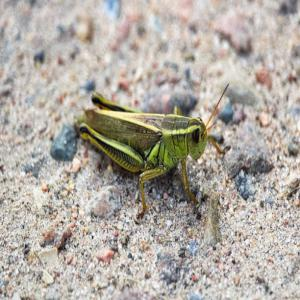locust: (83, 68, 235, 231)
